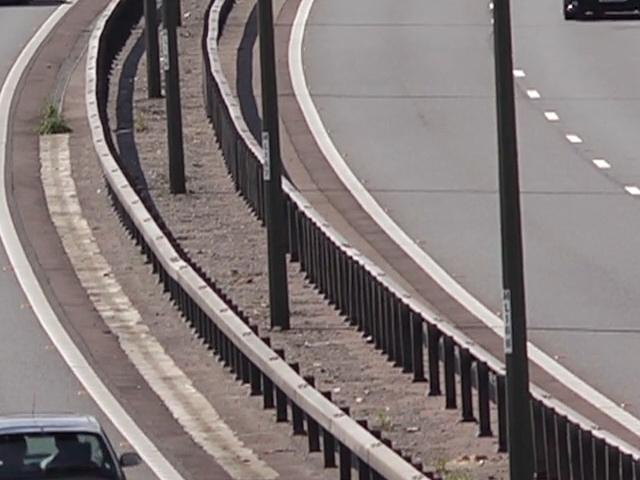car: (0, 410, 143, 480)
